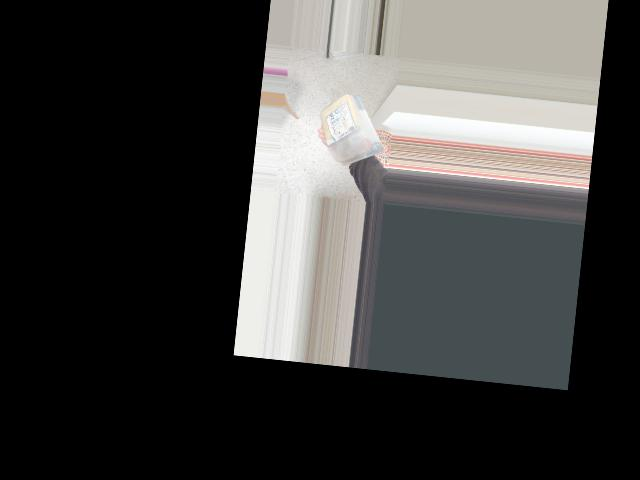cheese: (309, 86, 393, 173)
